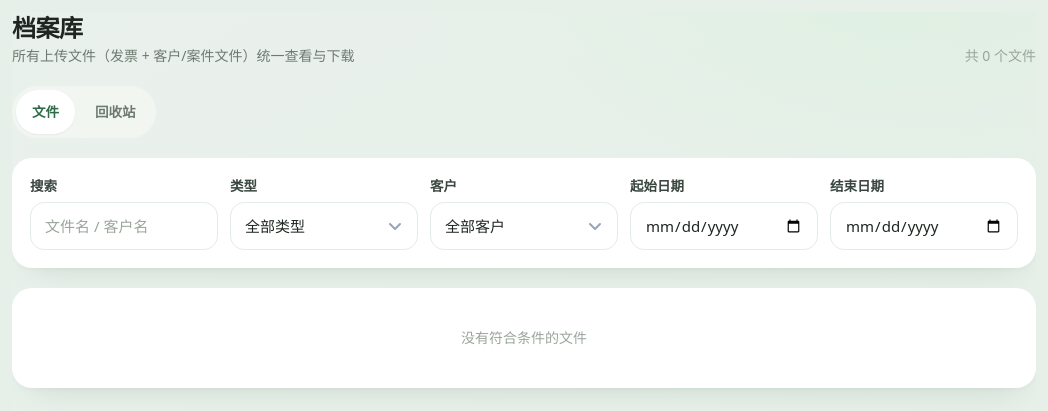
Test: ArchivePage · 日期筛选禁未来 › 起止互锁：起始改到结束之后 → 结束跟上；结束改到起始之前 → 起始降下（不产生静默空集区间）
The image size is (1048, 411).
Type "2026-01-31" into the date field labelled "结束日期" at [924, 226], box x1=830 y1=202 x2=1018 y2=250
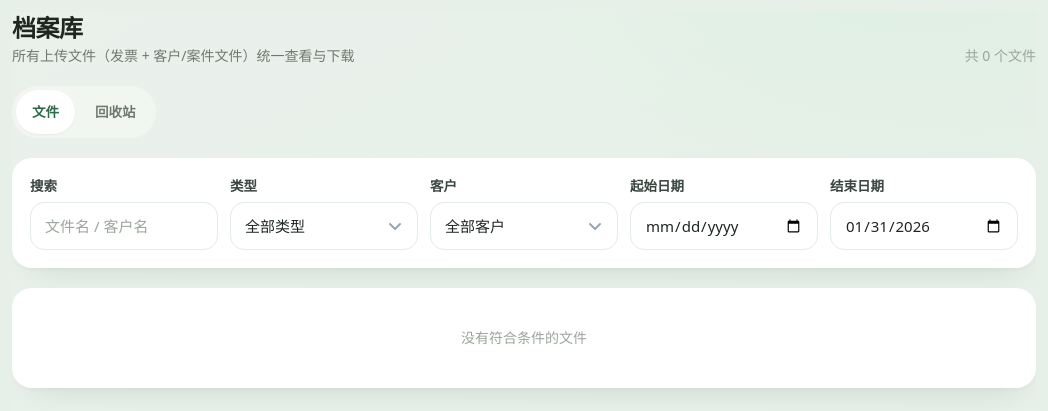
Type "2026-03-01" into the date field labelled "起始日期" at [724, 226], box x1=630 y1=202 x2=818 y2=250
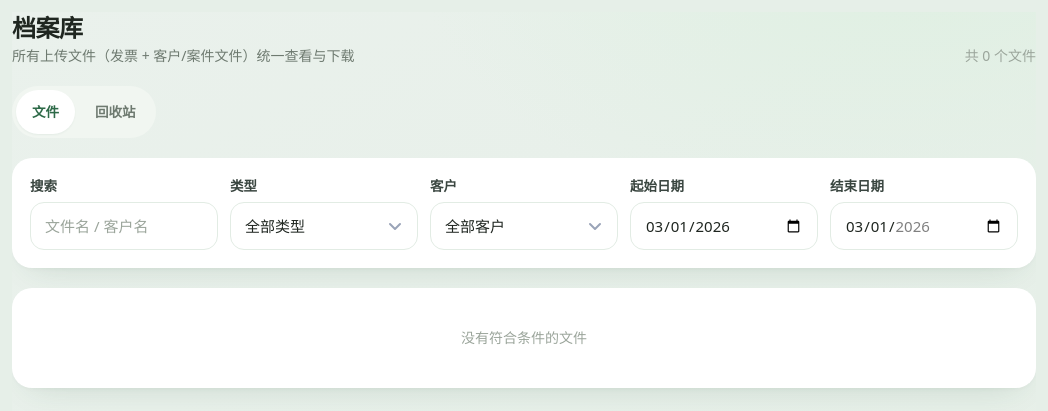
expect the date field labelled "结束日期" holds "2026-03-01": met
Type "2026-02-01" into the date field labelled "结束日期" at [924, 226], box x1=830 y1=202 x2=1018 y2=250
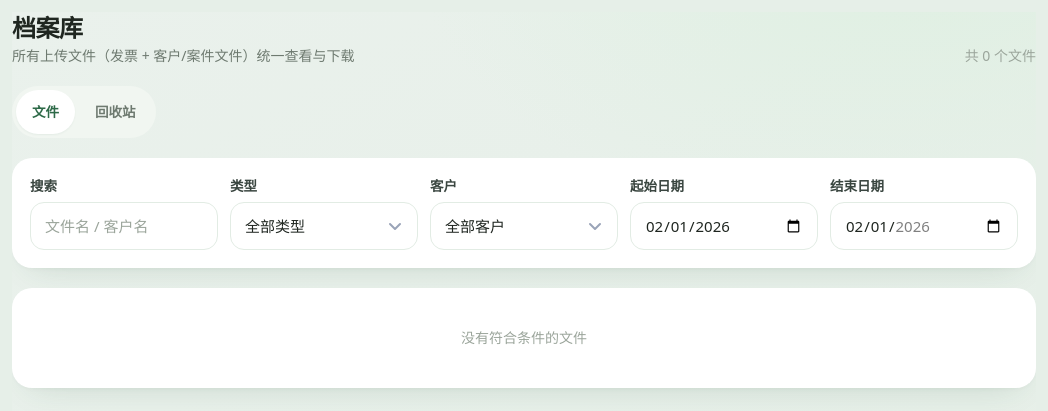
expect the date field labelled "起始日期" holds "2026-02-01": met, box x1=630 y1=202 x2=818 y2=250
